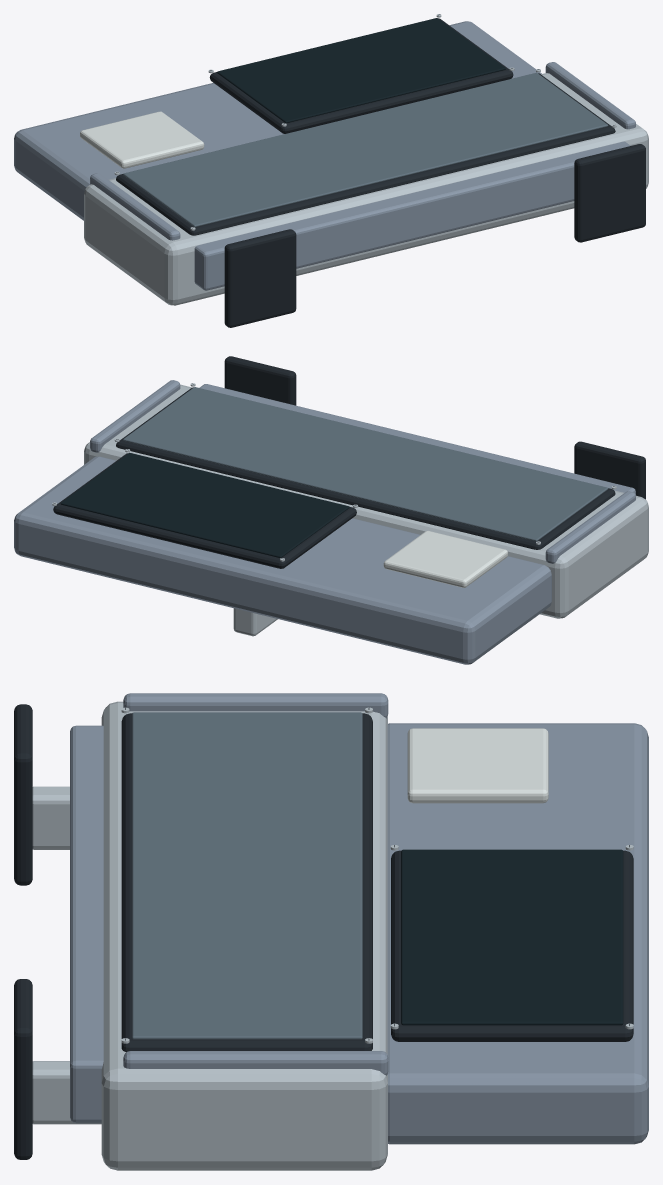
File: quality.glb
3 views of the same model, one above another, from view 1: azimuth 30°, elevation 25°; view 2: azimuth 150°, elevation 25°; view 3: azimuth 270°, elevation 25° (orthographic). The views are drawn at different scales.
Visible parts, largest first — view 1: deck live content surface.014, Precision bench.003, Lower service fascia.003, screen live content surface.014, Monitor enclosure.003, Rubber machine foot.024, Rubber machine foot.025, deck mounting bezel.014, Equipment identity plate.014, screen mounting bezel.014, Bench side guard.006, Bench side guard.007; view 2: Monitor enclosure.003, deck live content surface.014, screen live content surface.014, Precision bench.003, deck mounting bezel.014, Equipment identity plate.014, screen mounting bezel.014, Lower service fascia.003, Rubber machine foot.024, Rubber machine foot.025, Bench side guard.006, Bench side guard.007 (+1 smaller); view 3: deck live content surface.014, Monitor enclosure.003, Precision bench.003, screen live content surface.014, Lower service fascia.003, Equipment identity plate.014, deck mounting bezel.014, screen mounting bezel.014, Bench side guard.006, Bench side guard.007, Rubber machine foot.024, Rubber machine foot.025 (+2 smaller).
Part boxes in pixels (x1,y1,x2,y2): deck live content surface.014: (123,72,608,227); Precision bench.003: (84,73,648,305); Lower service fascia.003: (194,141,630,290); screen live content surface.014: (217,18,505,123); Monitor enclosure.003: (14,21,541,220); Rubber machine foot.024: (224,229,296,327); Rubber machine foot.025: (574,144,645,242); deck mounting bezel.014: (116,73,615,235); Equipment identity plate.014: (80,111,204,168); screen mounting bezel.014: (209,18,513,133); Bench side guard.006: (90,173,180,240); Bench side guard.007: (545,62,635,129); Monitor enclosure.003: (14,456,551,664); deck live content surface.014: (123,387,608,541); screen live content surface.014: (60,452,349,557); Precision bench.003: (84,384,648,618); deck mounting bezel.014: (116,387,615,549); Equipment identity plate.014: (383,530,507,587); screen mounting bezel.014: (53,453,356,568); Lower service fascia.003: (199,384,635,494); Rubber machine foot.024: (574,441,645,499); Rubber machine foot.025: (224,356,296,405); Bench side guard.006: (545,491,635,563); Bench side guard.007: (90,380,180,452); deck live content surface.014: (132,712,362,1039); Monitor enclosure.003: (387,723,648,1144); Precision bench.003: (101,701,387,1170); screen live content surface.014: (401,849,623,1025); Lower service fascia.003: (70,725,103,1123); Equipment identity plate.014: (407,728,548,803); deck mounting bezel.014: (121,713,372,1051); screen mounting bezel.014: (391,850,633,1041); Bench side guard.006: (123,693,388,718); Bench side guard.007: (123,1051,388,1075); Rubber machine foot.024: (14,704,32,885); Rubber machine foot.025: (14,979,32,1159).
Size of the model in its own units: 10.5 by 1.83 by 7.43.
